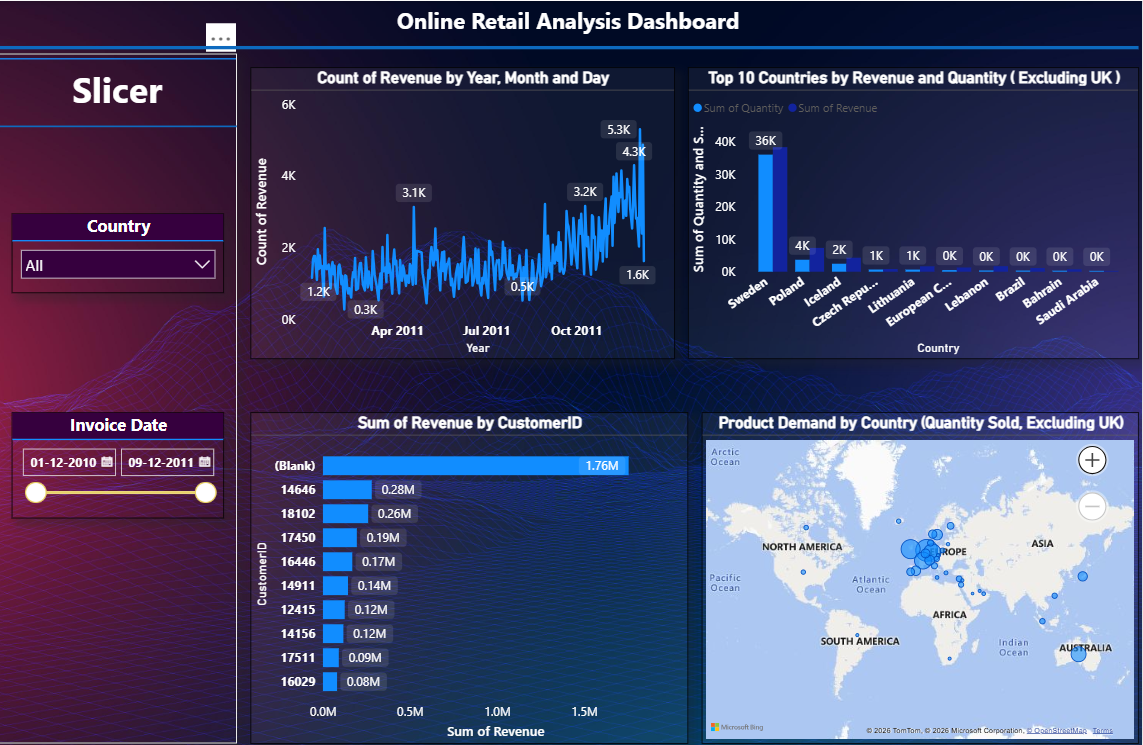

The dashboard page shown, as its layout file describes it:
{"tool":"powerbi","page":{"name":"Final Dashboard","canvas":[1380,900],"ordinal":4},"visuals":[{"type":"textbox","box":[0,64,288,832],"z":0},{"type":"lineChart","fields":{"Category":["Online Retail.InvoiceDate.Variation.Date Hierarchy.Year","Online Retail.InvoiceDate.Variation.Date Hierarchy.Month","Online Retail.InvoiceDate.Variation.Date Hierarchy.Day"],"Y":["CountNonNull(Online Retail.Revenue)"]},"box":[304,80,512,352],"z":0,"group":"g1"},{"type":"textbox","box":[0,0,1376,64],"z":1000},{"type":"clusteredColumnChart","title":"Top 10 Countries by Revenue and Quantity ( Excluding UK )","fields":{"Category":["Online Retail.Country"],"Y":["Sum(Online Retail.Quantity)","Sum(Online Retail.Revenue)"]},"box":[832,80,544,352],"z":1000,"group":"g1"},{"type":"shape","box":[0,48,1376,16],"z":2000},{"type":"clusteredBarChart","fields":{"Category":["Online Retail.CustomerID"],"Y":["Sum(Online Retail.Revenue)"]},"box":[304,496,528,400],"z":2000,"group":"g1"},{"type":"slicer","title":"Country","fields":{"Values":["Online Retail.Country"]},"box":[16,256,256,96],"z":3000},{"type":"map","title":"Product Demand by Country (Quantity Sold, Excluding UK)","fields":{"Category":["Online Retail.Country"],"Size":["Sum(Online Retail.Quantity)"]},"box":[848.5,496,527.5,400],"z":3000,"group":"g1"},{"type":"slicer","title":"Invoice Date","fields":{"Values":["Online Retail.InvoiceDate"]},"box":[16,496,256,128],"z":4000},{"type":"group","id":"g1","title":"Group 1","box":[304,80,1072,816],"z":5000},{"type":"shape","box":[0,144,288,16],"z":6000}]}

Visuals, with their boxes in screenshot pixels (x1, y1, x2, y2), scaled from the page's 1380x900 canvas onto the 1143x745 screenshot:
textbox: BBox(0, 53, 239, 742)
lineChart - Online Retail.InvoiceDate.Variation.Date Hierarchy.Year x Online Retail.InvoiceDate.Variation.Date Hierarchy.Month: BBox(252, 66, 676, 358)
textbox: BBox(0, 0, 1140, 53)
"Top 10 Countries by Revenue and Quantity ( Excluding UK )" clusteredColumnChart: BBox(689, 66, 1140, 358)
shape: BBox(0, 40, 1140, 53)
clusteredBarChart - Online Retail.CustomerID x Sum(Online Retail.Revenue): BBox(252, 411, 689, 742)
"Country" slicer: BBox(13, 212, 225, 291)
"Product Demand by Country (Quantity Sold, Excluding UK)" map: BBox(703, 411, 1140, 742)
"Invoice Date" slicer: BBox(13, 411, 225, 517)
"Group 1" group: BBox(252, 66, 1140, 742)
shape: BBox(0, 119, 239, 132)
